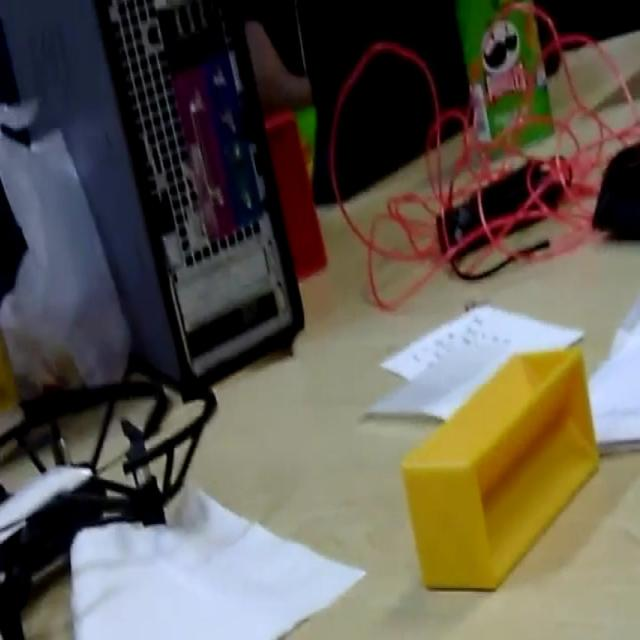yellow_block: (400, 343, 600, 592)
